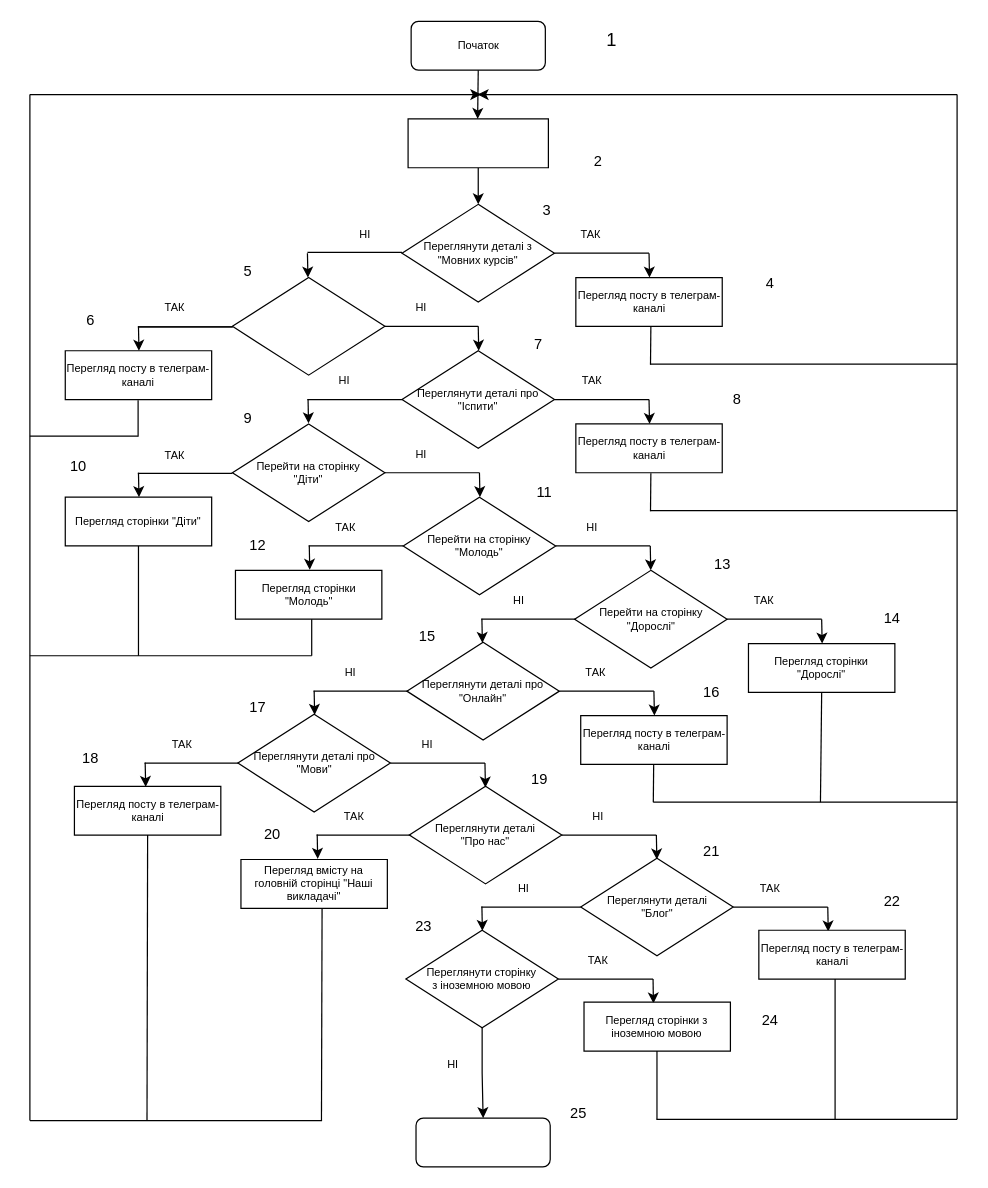
The diagram is 988 pixels wide and 1188 high, and some of its shapes have lost their labels. The centre of each missing label's shape, as x and y in pixels:
Кінець: (482,1142)
Перегляд "Головної сторінки": (477,143)
Переглянути деталі про "Унікальну пропозицію": (308,325)
